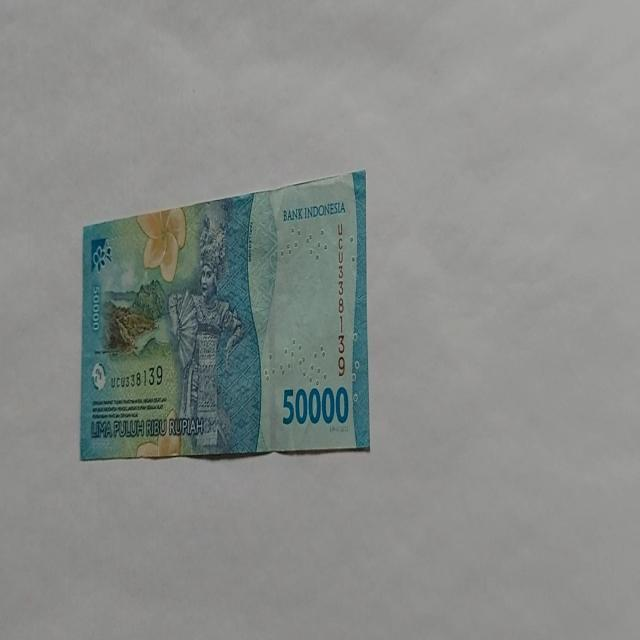lima puluh ribu rupiah: (79, 168, 370, 462)
